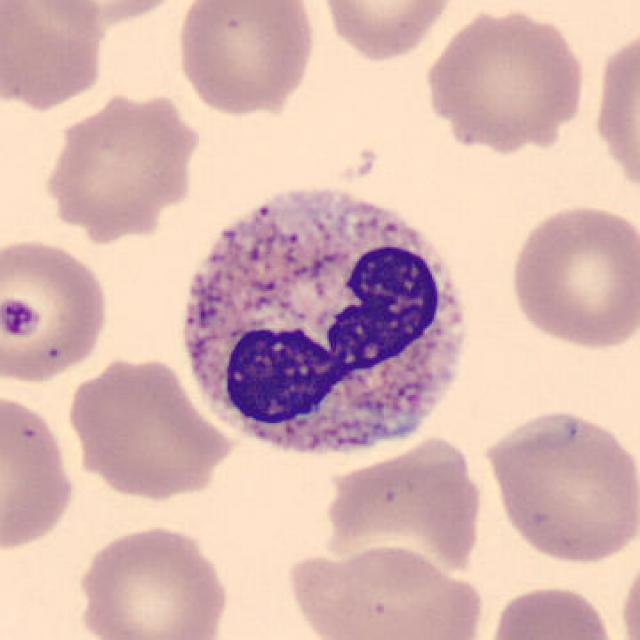Neutrophil: (167, 170, 485, 474)
Platelets: (0, 292, 49, 340)
RBC: (478, 403, 636, 568), (418, 3, 590, 154), (62, 351, 231, 501), (50, 91, 205, 254), (316, 434, 489, 580), (503, 200, 638, 354), (284, 539, 487, 640), (73, 520, 233, 640), (171, 0, 320, 118), (0, 235, 114, 386), (0, 388, 80, 557), (2, 2, 110, 113), (590, 16, 638, 204), (315, 0, 457, 63), (482, 580, 624, 640), (25, 0, 192, 32), (617, 536, 640, 640)
